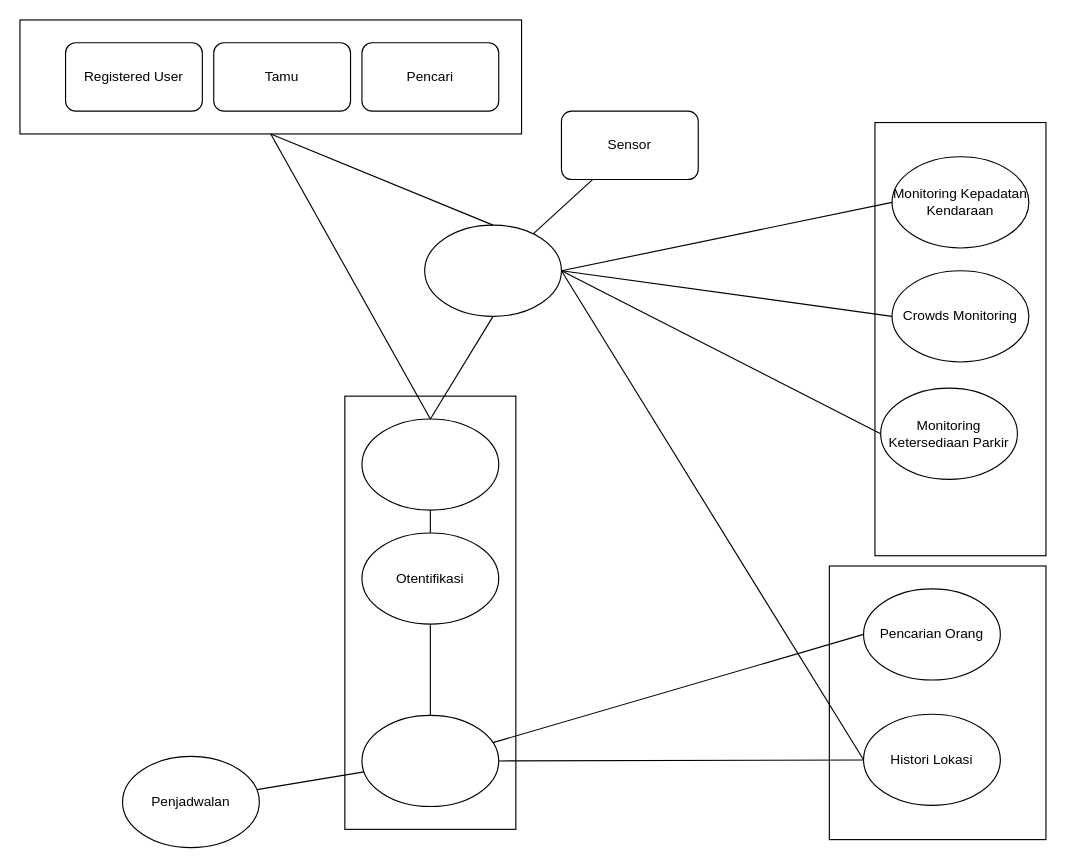
The diagram is 1066 pixels wide and 868 high, and some of its shapes have lost their labels. The shapes that lost their labels are listed below. From the top down, each one's centre as x and y in pixels, then its label:
(x=492, y=270): Sensing
(x=430, y=464): Otorisasi
(x=430, y=760): Manajemen Akun
